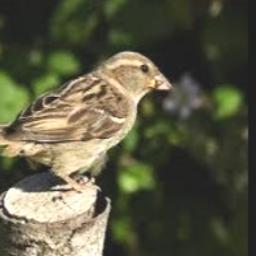Sparrow: (0, 50, 172, 190)
